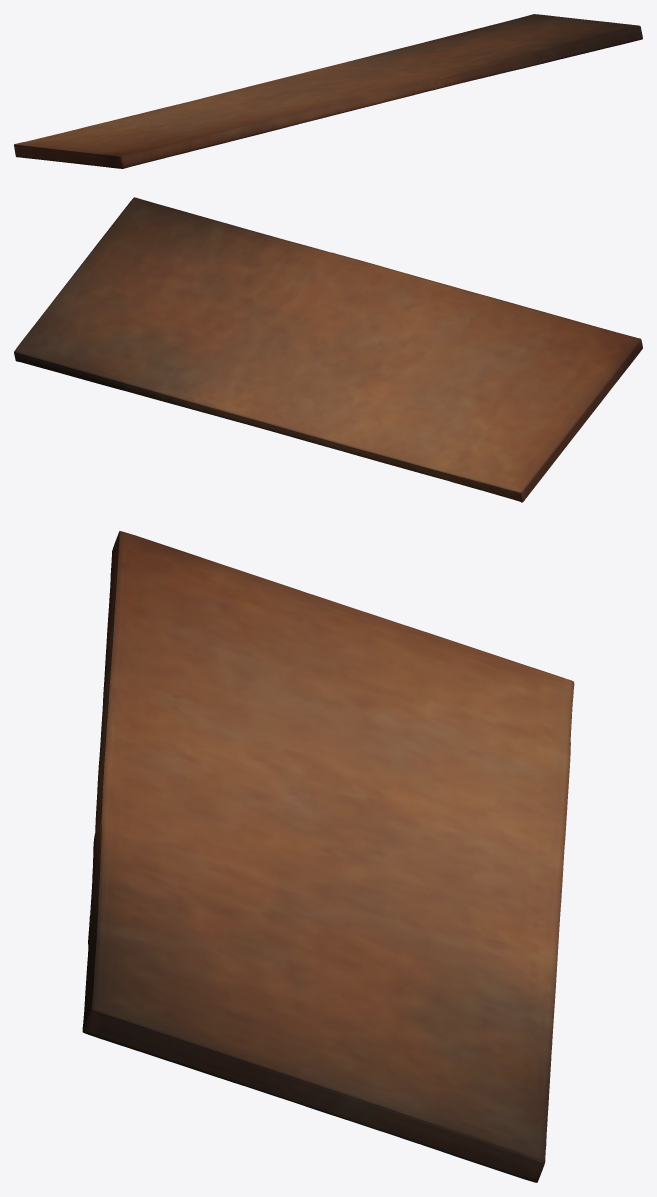
File: wooden_table_000.glb
3 views of the same model, one above another, from view 1: azimuth 30°, elevation 25°; view 2: azimuth 150°, elevation 25°; view 3: azimuth 270°, elevation 25° (orthographic). The views are drawn at different scales.
Visible parts, largest first — view 1: wooden_table_000.obj; view 2: wooden_table_000.obj; view 3: wooden_table_000.obj.
Part boxes in pixels (x1=…): wooden_table_000.obj: x1=14, y1=14, x2=642, y2=168; wooden_table_000.obj: x1=14, y1=197, x2=642, y2=502; wooden_table_000.obj: x1=82, y1=531, x2=574, y2=1182.
Size of the model in its own units: 2.5 by 0.4346 by 1.02.
1 material, 1 textured.
